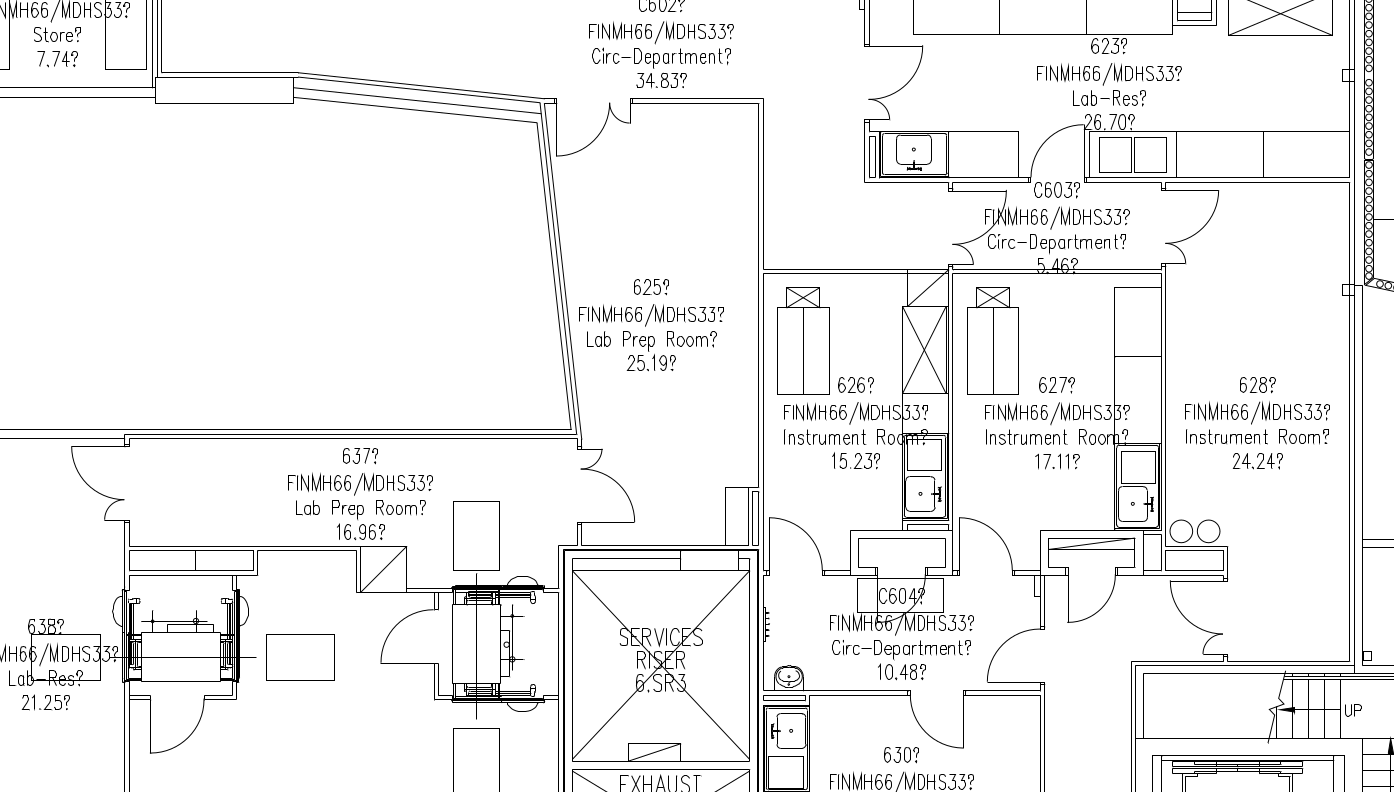door: (1024, 117, 1087, 179), (1161, 185, 1227, 244), (949, 186, 1015, 245), (1164, 578, 1230, 637), (955, 513, 1019, 572), (977, 625, 1041, 684), (903, 696, 967, 755), (765, 513, 829, 572), (574, 468, 638, 527), (61, 443, 125, 502), (143, 700, 207, 759), (864, 43, 928, 100), (553, 101, 611, 163), (377, 605, 435, 667), (1065, 577, 1120, 633), (1195, 630, 1228, 658), (866, 98, 892, 126), (98, 500, 122, 530), (580, 444, 604, 474)
